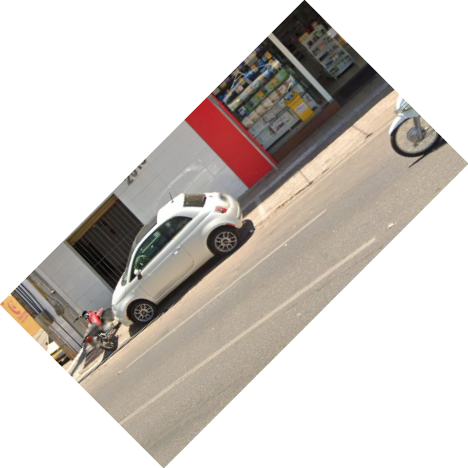car: (110, 188, 253, 330)
